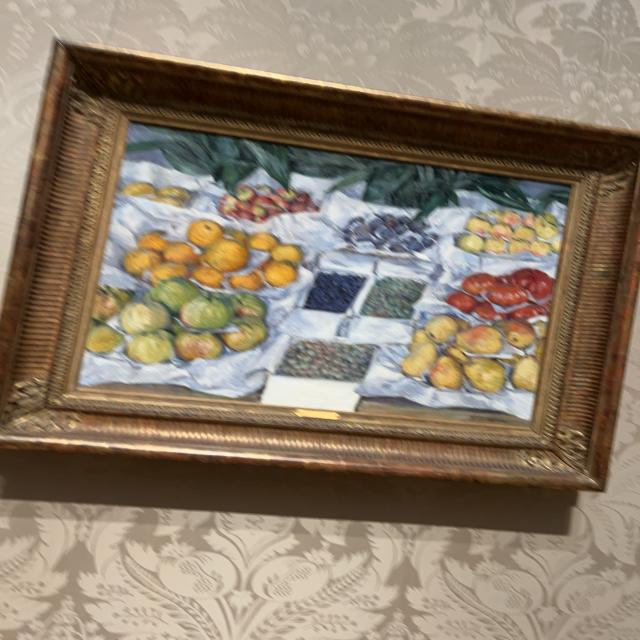fruits: (76, 123, 571, 424)
